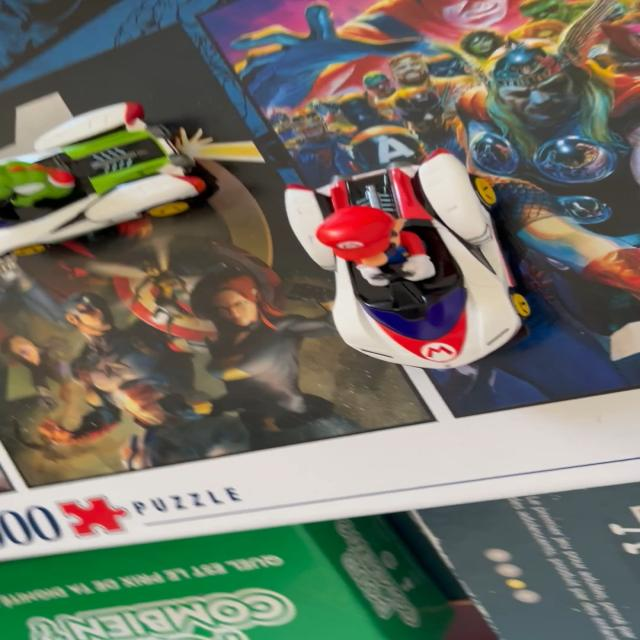mario: (272, 136, 550, 379)
yoshi: (0, 68, 222, 269)
